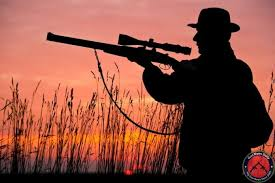rifle: (46, 31, 191, 74)
